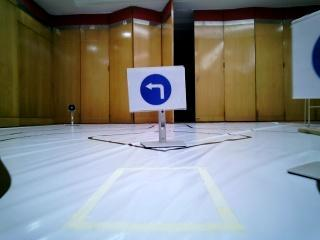left: (128, 70, 188, 108)
